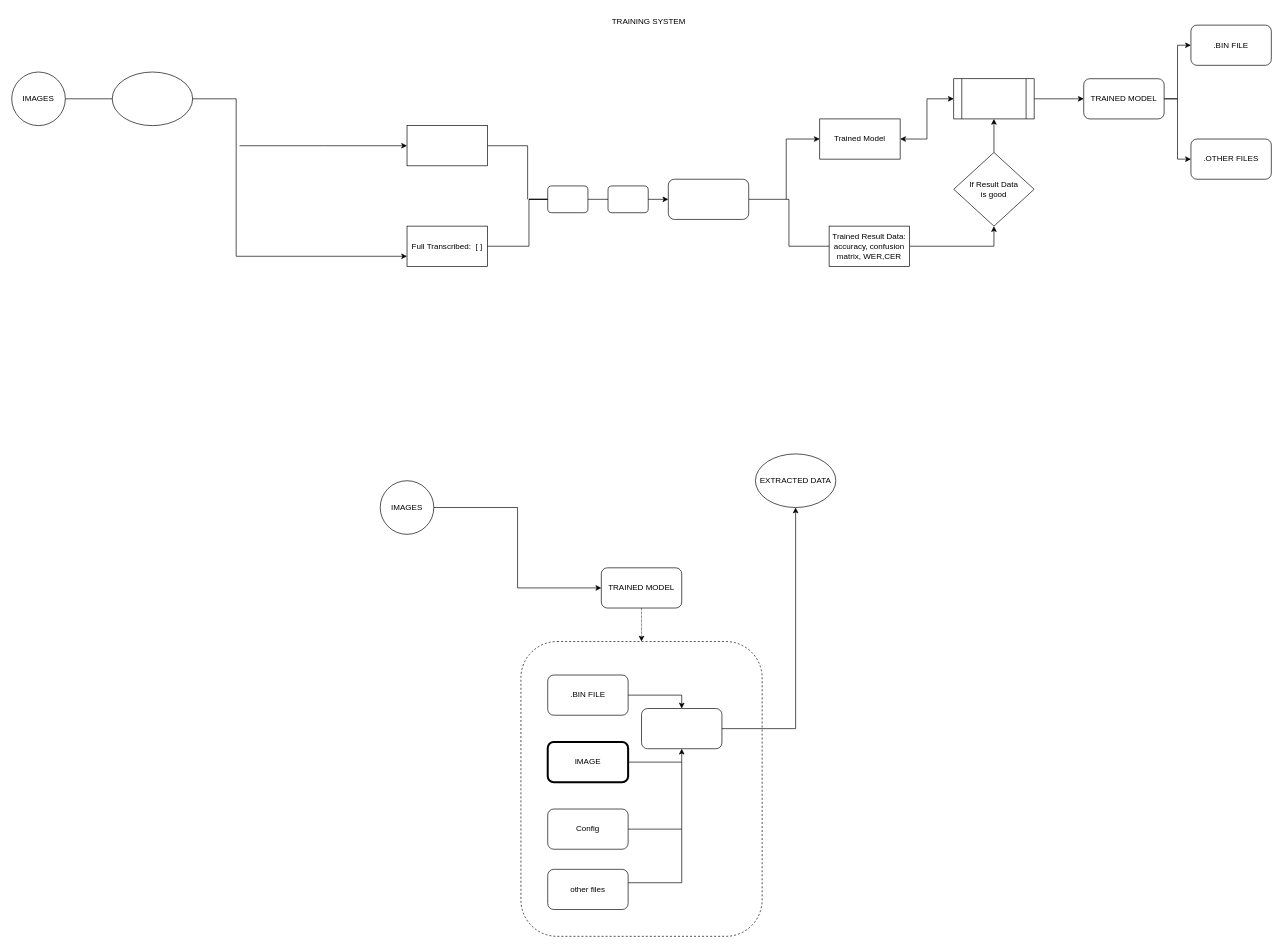
Some shapes in this 1283 by 948 pixel diagram are drawn without their labels. The shapes that lost their labels are listed below. From the top down, each one's centre as x and y in pixels, then its label:
[152,98]: EXTRACTION
[993,98]: STORE
[446,145]: Label : { }
[567,199]: CSV
[627,199]: DF
[708,199]: TRAINING MODEL
[681,728]: PREDICT SCRIPT
